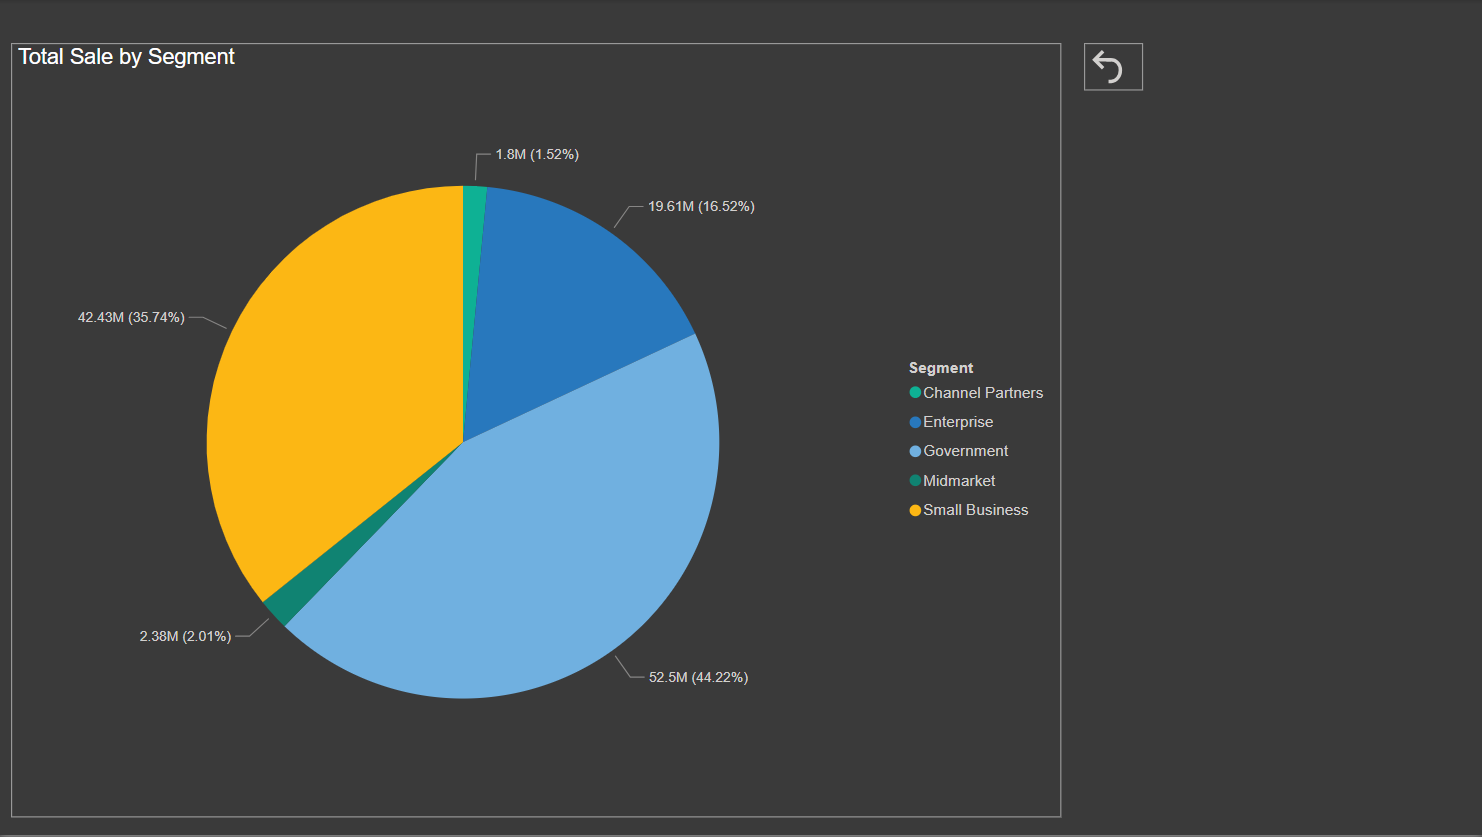

The dashboard page shown, as its layout file describes it:
{"tool":"powerbi","page":{"name":"Page 2","canvas":[1280,720],"ordinal":1},"visuals":[{"type":"pieChart","title":"Total Sale by Segment","fields":{"Category":["Sheet1.Segment"],"Y":["Sum(Sheet1. Sales)"]},"box":[10.4,37.1,905.7,667.6],"z":0},{"type":"actionButton","box":[935.8,37.1,50.9,40.5],"z":1000}]}

Visuals, with their boxes in screenshot pixels (x1, y1, x2, y2), scaled from the page's 1280x720 canvas onto the 1482x837 screenshot:
"Total Sale by Segment" pieChart: <bbox>12, 43, 1061, 819</bbox>
actionButton: <bbox>1083, 43, 1142, 90</bbox>
